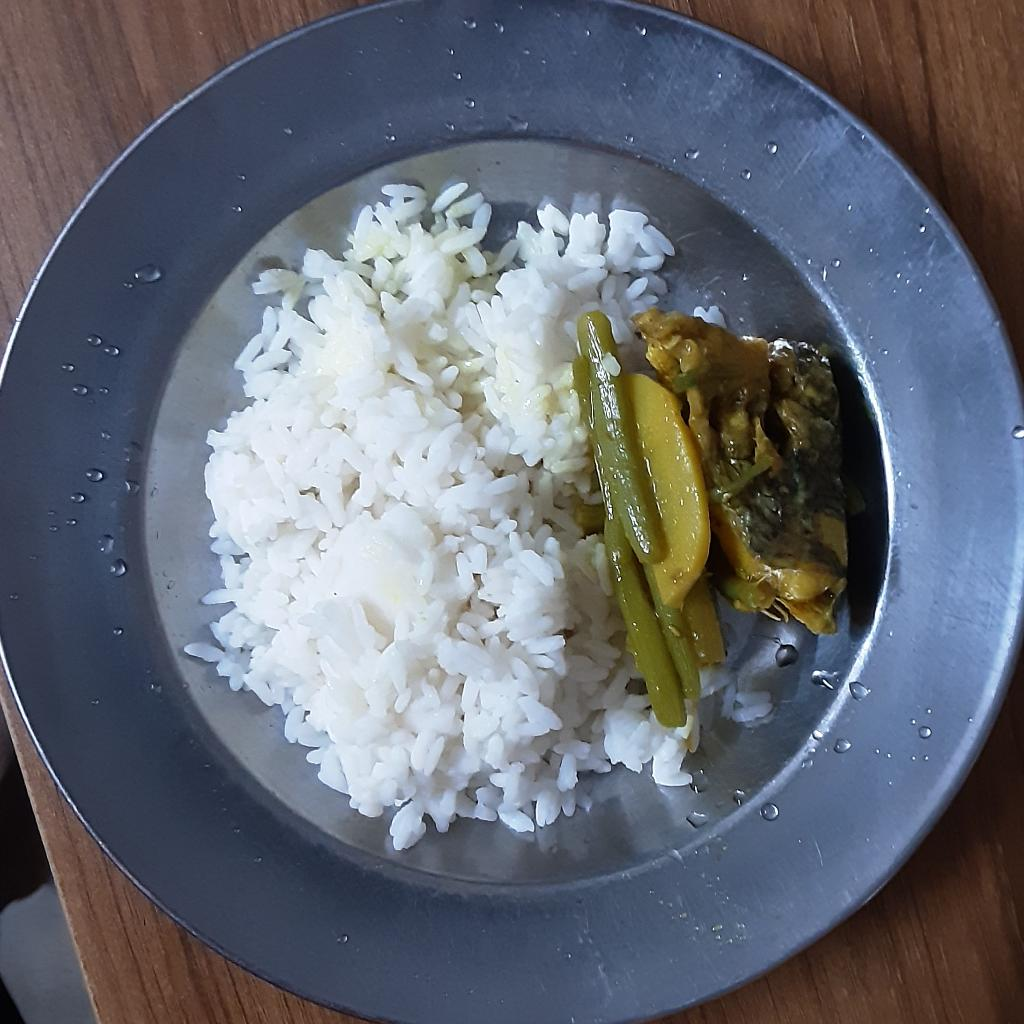fish: (636, 314, 861, 634)
potato: (631, 369, 712, 610)
rice: (185, 184, 773, 852), (696, 301, 728, 318)
shak: (575, 305, 767, 726)
